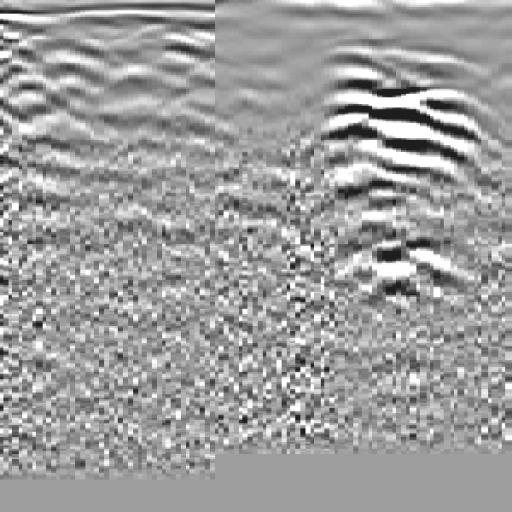metalic: (258, 39, 512, 323)
